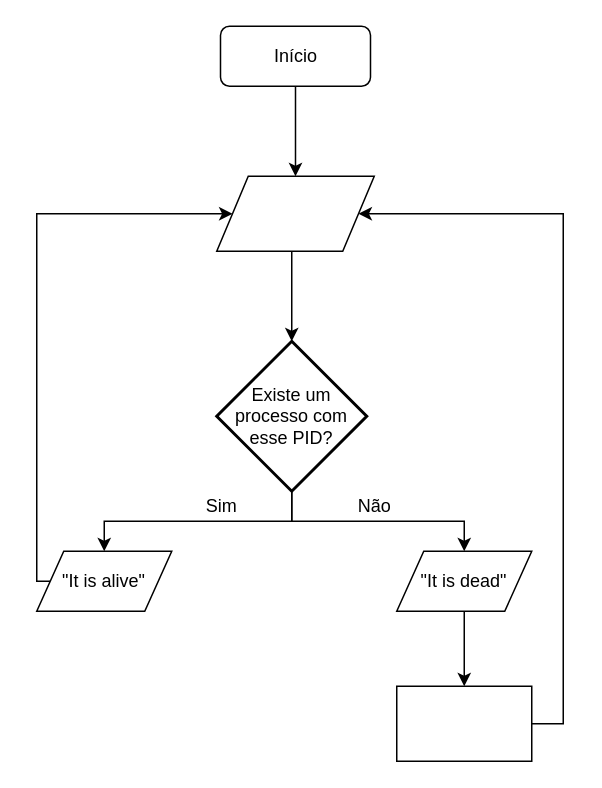
The diagram is 602 pixels wide and 788 high, and some of its shapes have lost their labels. Here are the shapes that lost their labels. From the top down, the centre of each, then its label:
At [294,213]: "PID (python3)".
At [463,723]: "Executa função em python3".
